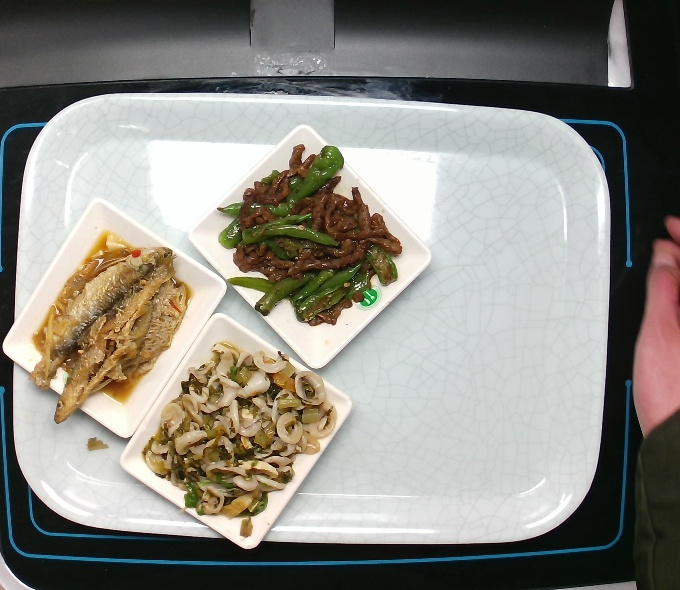wcq-QingJiaoNiuRou: (216, 137, 414, 343)
wcq-XiaoXiYu: (25, 231, 197, 424)
wcq-XueCaiYouYu: (139, 339, 335, 543)
